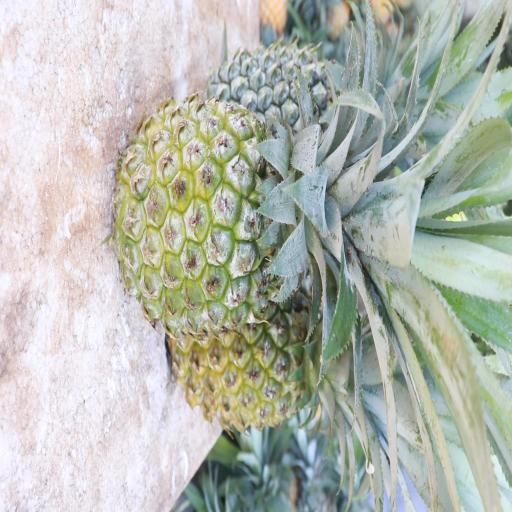------------------------------: (107, 87, 408, 339)
Pineapple - v8 v1: (163, 238, 399, 436)
